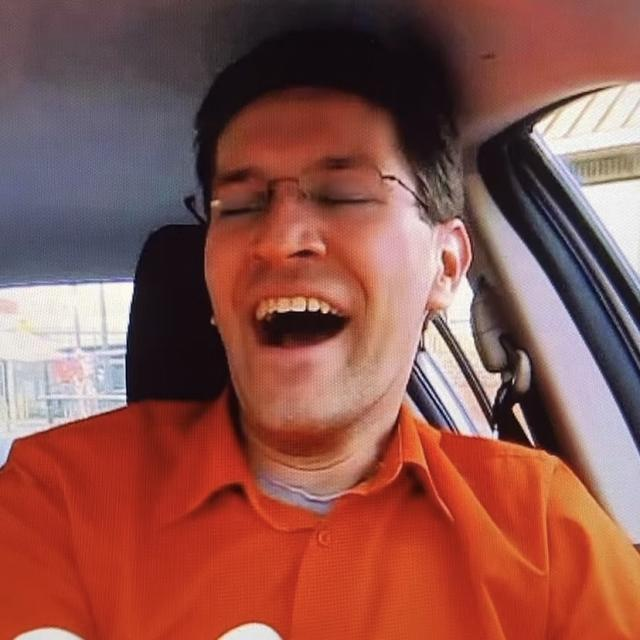open-mouth: (248, 280, 352, 372)
